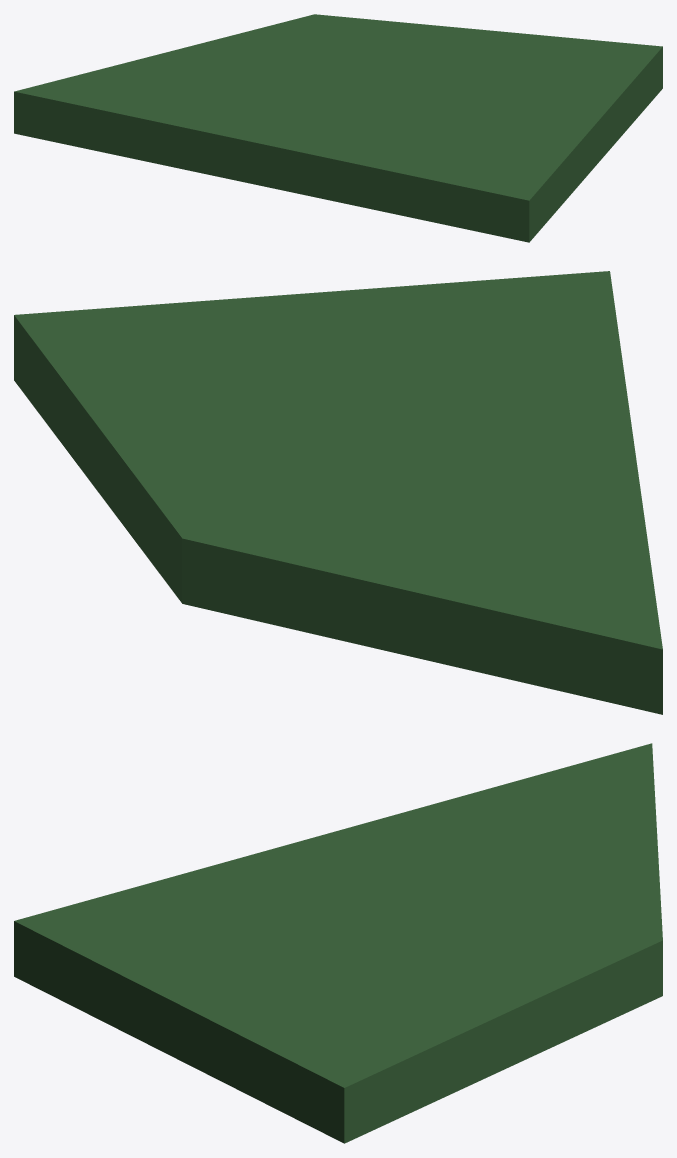
Rendered from x_proval_00_157_1_rmstrd.fbx.
3 views of the same model, one above another, from view 1: azimuth 30°, elevation 25°; view 2: azimuth 150°, elevation 25°; view 3: azimuth 270°, elevation 25° (orthographic). The views are drawn at different scales.
Visible parts, largest first — view 1: x_proval_00_157_1_rmstrd1; view 2: x_proval_00_157_1_rmstrd1; view 3: x_proval_00_157_1_rmstrd1.
Boxes of the visible parts, box(x1,y1,x2,y2) form: x_proval_00_157_1_rmstrd1: box(14, 14, 662, 242); x_proval_00_157_1_rmstrd1: box(14, 271, 662, 714); x_proval_00_157_1_rmstrd1: box(14, 743, 662, 1143).
Size of the model in its own units: 2.66 by 0.2 by 2.11.
